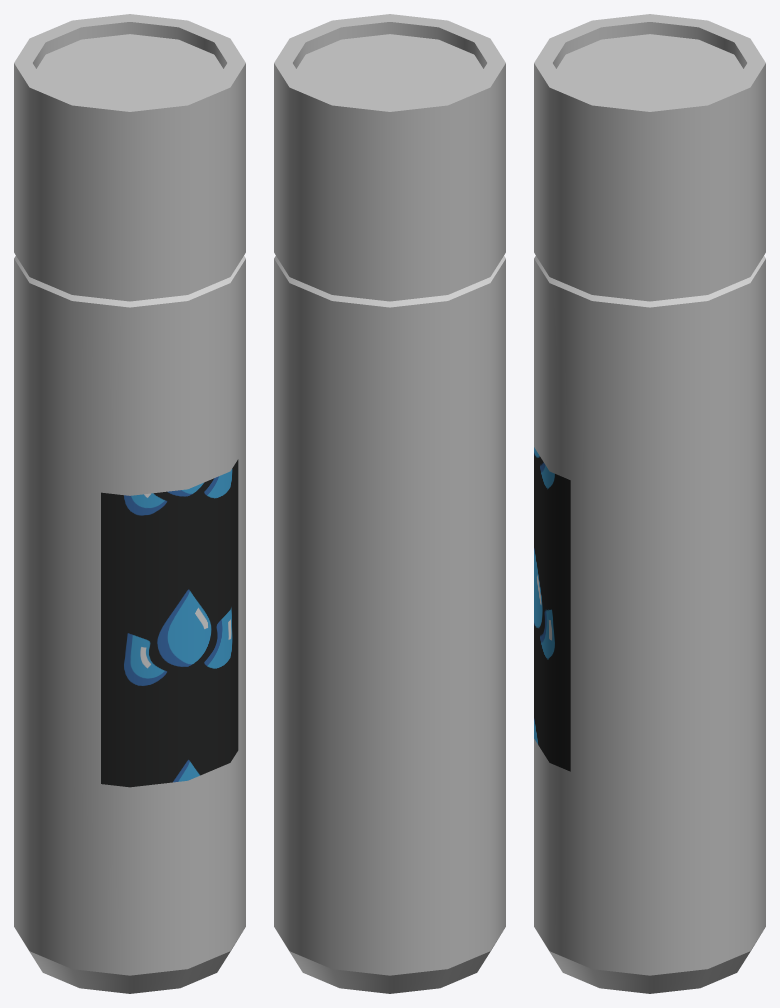
File: Spray_01.fbx
3 renders of one model, left to right at view 1: azimuth 30°, elevation 25°; view 2: azimuth 150°, elevation 25°; view 3: azimuth 270°, elevation 25°, orthographic.
Parts seen in each view (by area): view 1: Spray_01, Spray_01_Cap; view 2: Spray_01, Spray_01_Cap; view 3: Spray_01, Spray_01_Cap.
Part boxes in pixels (bbox=[...]): Spray_01: bbox=[14, 256, 245, 993]; Spray_01_Cap: bbox=[14, 14, 245, 301]; Spray_01: bbox=[274, 256, 505, 993]; Spray_01_Cap: bbox=[274, 14, 505, 301]; Spray_01: bbox=[534, 256, 765, 993]; Spray_01_Cap: bbox=[534, 14, 765, 301].
Size of the model in its own units: 0.097 by 0.41 by 0.097.
